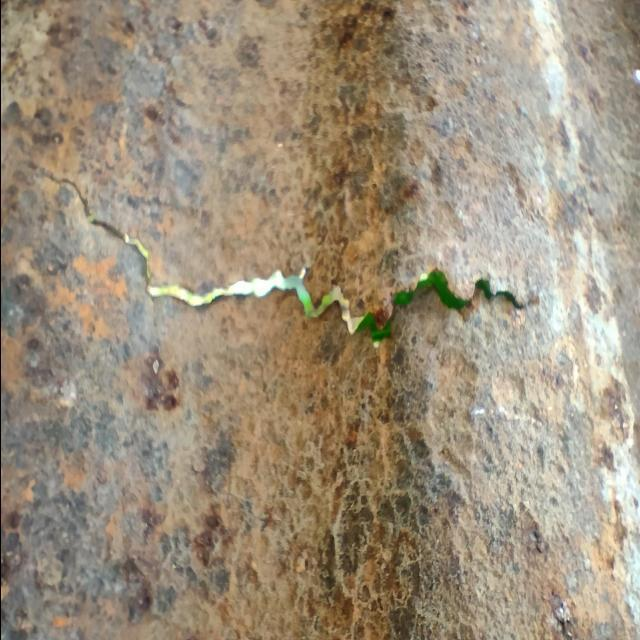Crack: (20, 156, 530, 356)
